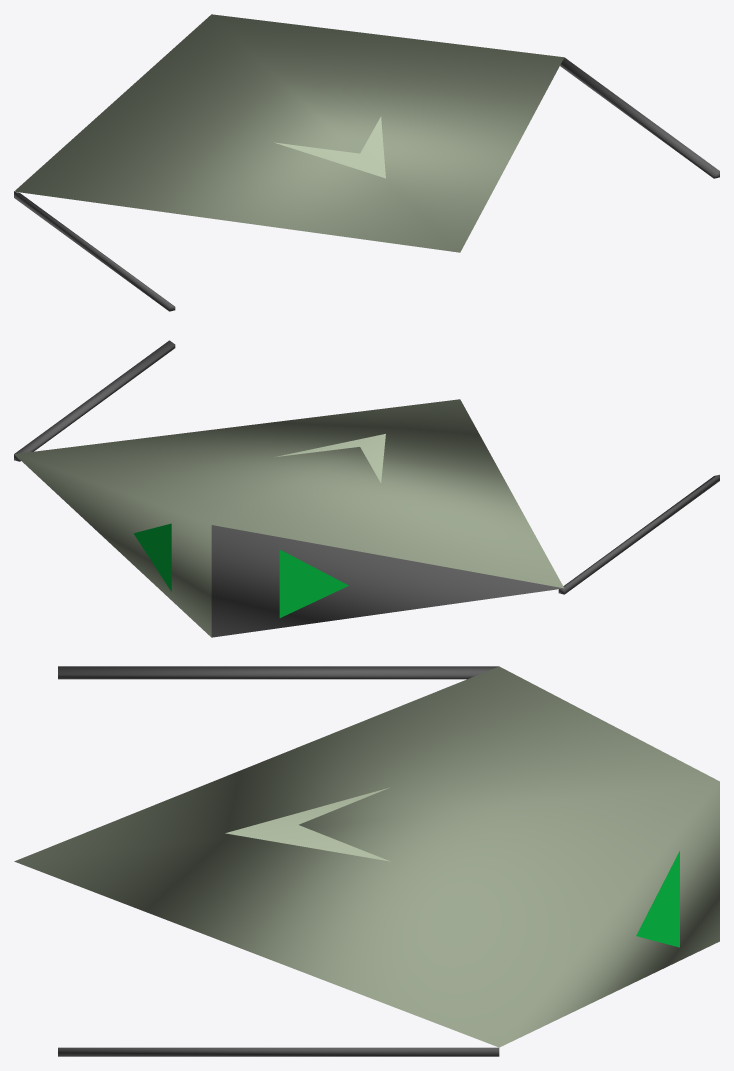
Rendered from krait.fbx.
The picture shows the model from 3 angles, top to bottom: view 1: azimuth 30°, elevation 25°; view 2: azimuth 150°, elevation 25°; view 3: azimuth 270°, elevation 25°; orthographic projection. The views are drawn at different scales.
Visible parts, largest first — view 1: krait; view 2: krait; view 3: krait.
Part boxes in pixels (box(x1,y1,x2,y2)): krait: box(14, 14, 719, 311); krait: box(14, 340, 719, 637); krait: box(14, 666, 719, 1056).
Size of the model in its own units: 1.84 by 0.36 by 1.44.
